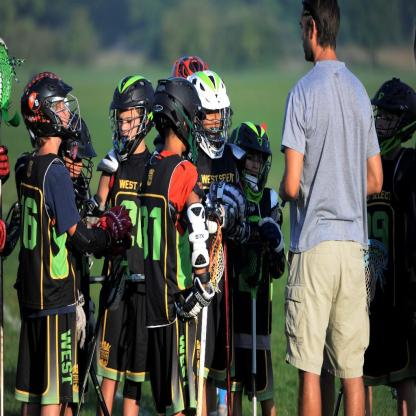Helmet: (20, 73, 82, 158), (152, 77, 206, 165), (229, 124, 274, 207), (189, 68, 230, 159), (104, 74, 150, 155), (370, 77, 416, 157), (59, 112, 96, 202), (170, 55, 208, 79)
